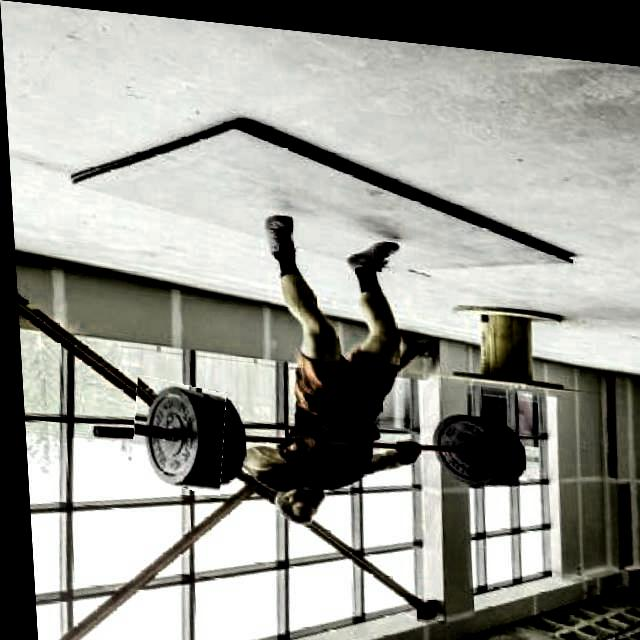barbell: (125, 374, 223, 490)
